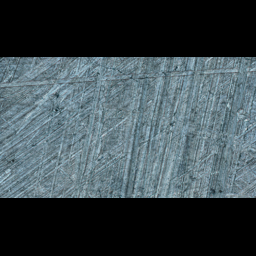d: (0, 87, 255, 161), (70, 57, 129, 198), (0, 61, 256, 91)
